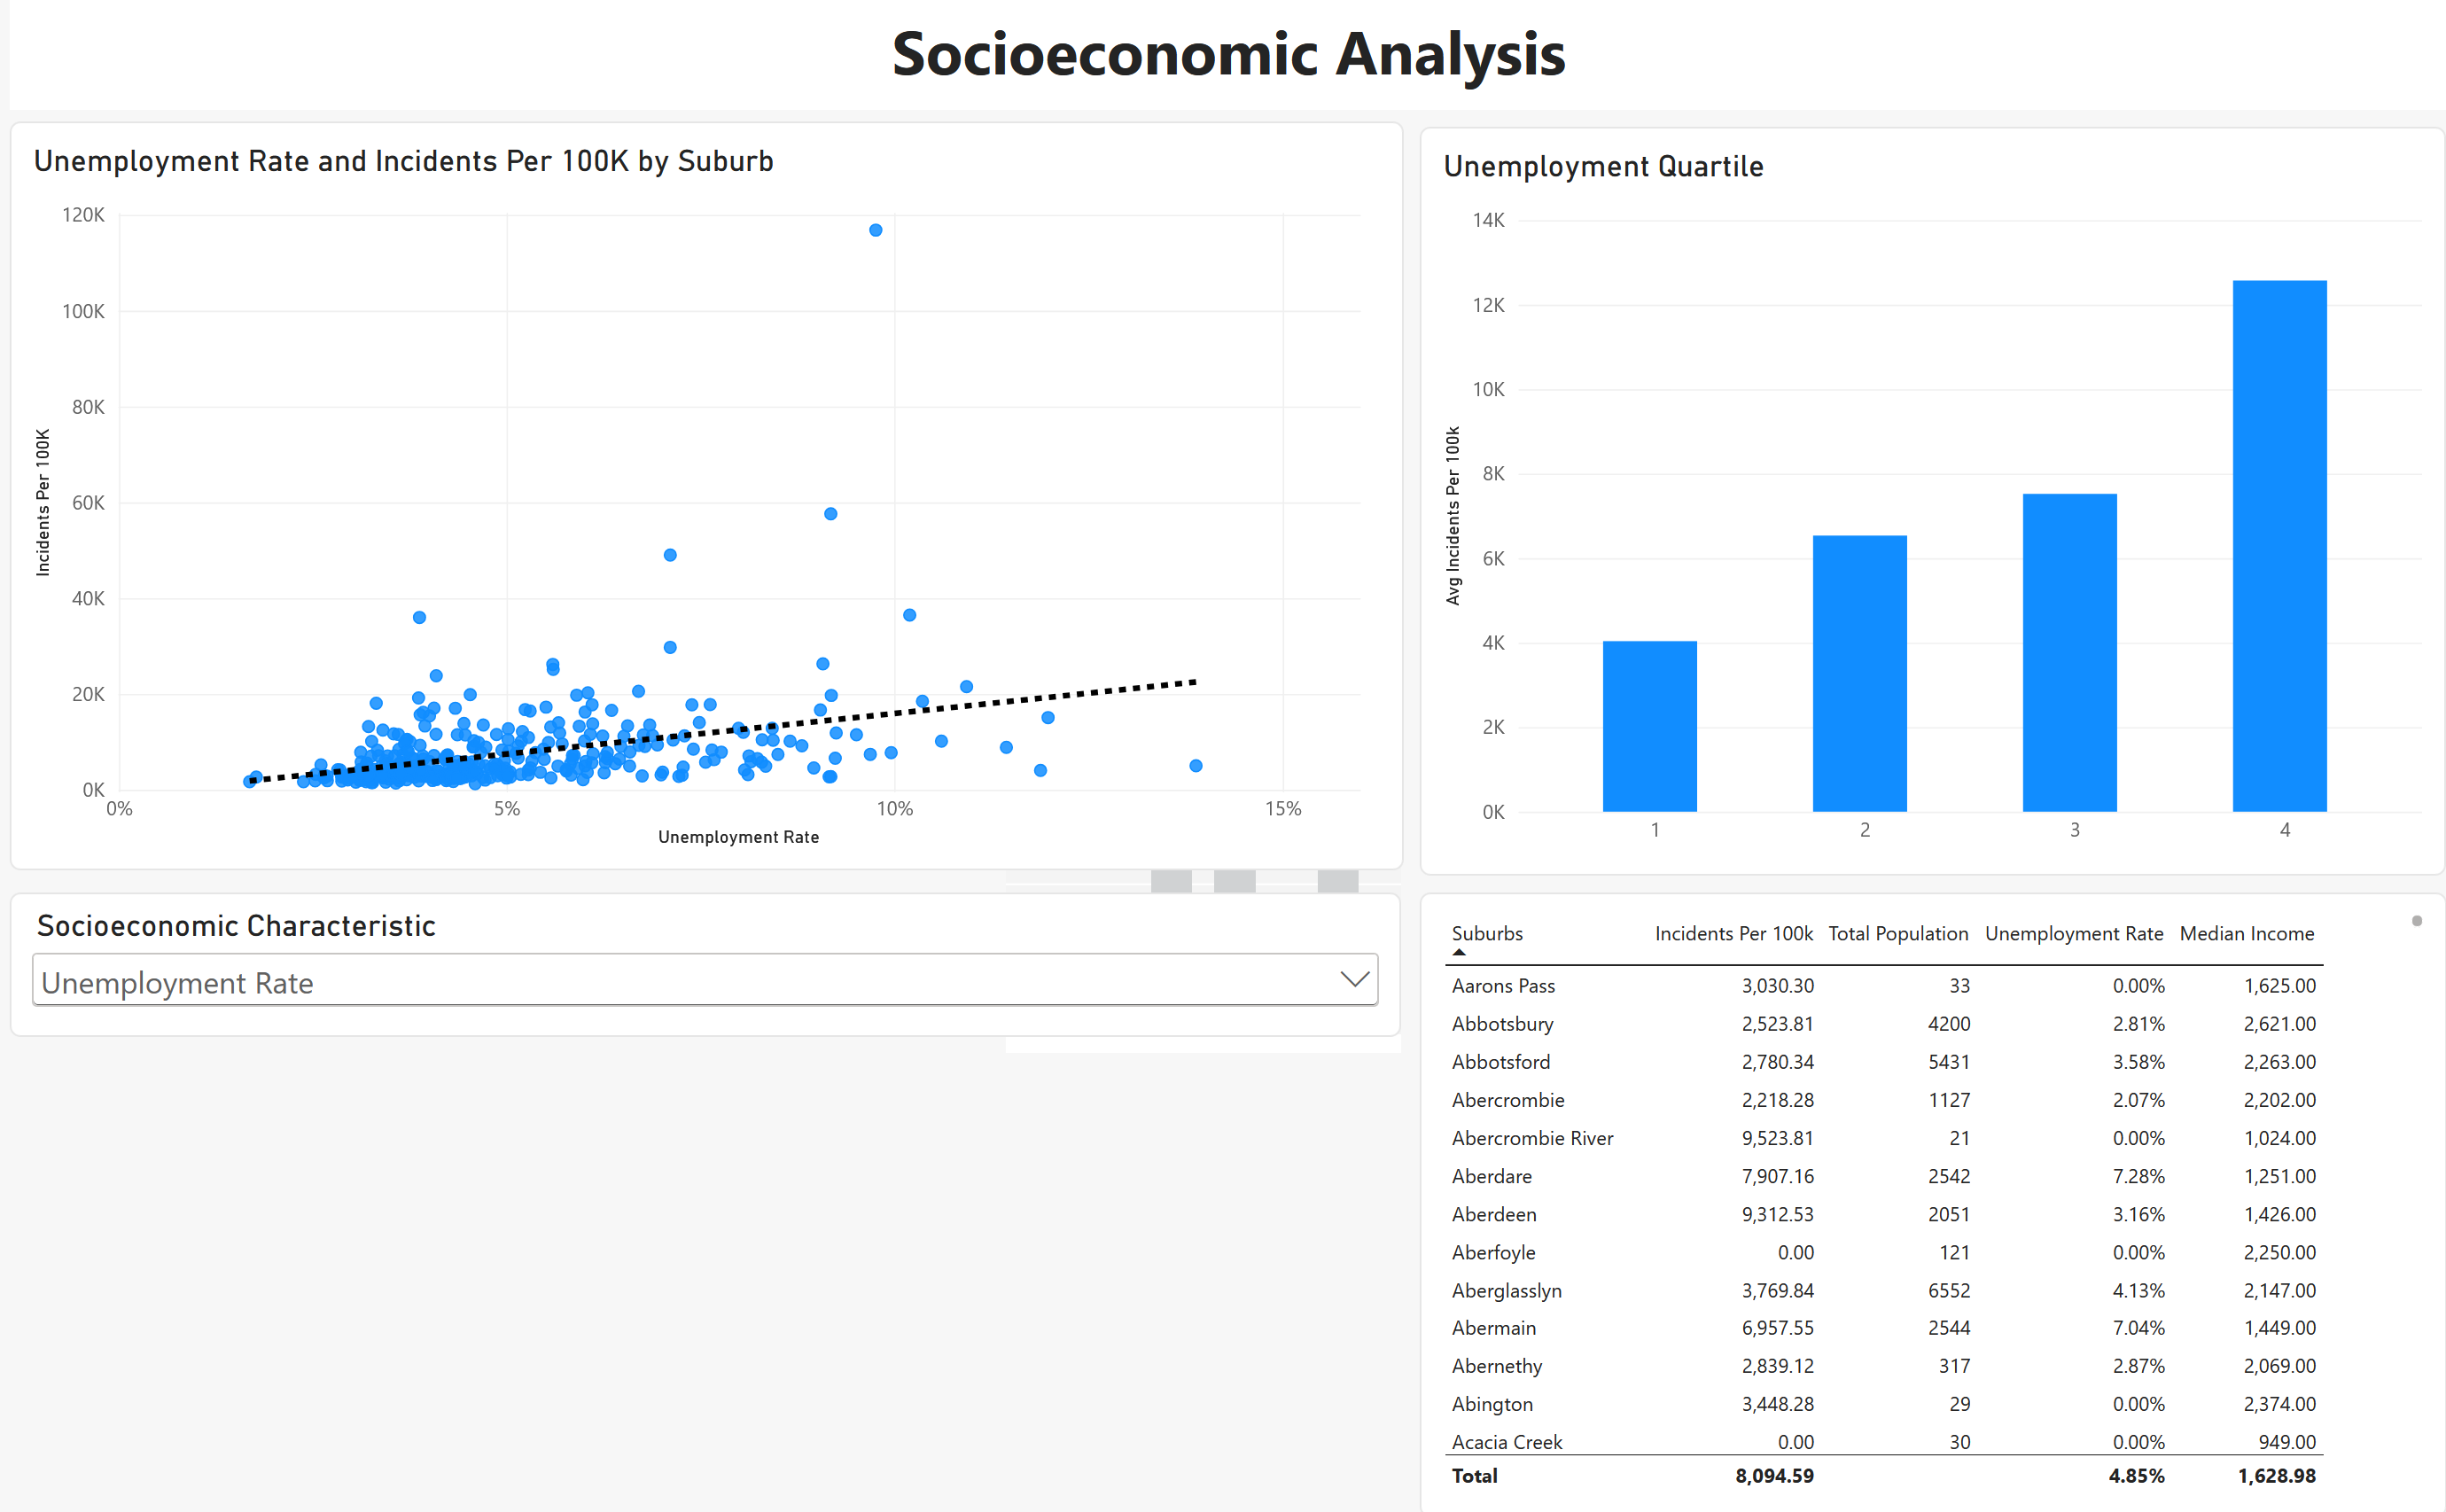

The dashboard page shown, as its layout file describes it:
{"tool":"powerbi","page":{"name":"Socioeconomic Analysis","canvas":[1920,1080],"ordinal":2},"visuals":[{"type":"clusteredColumnChart","box":[784.9,470,280,280],"z":0},{"type":"scatterChart","fields":{"X":["census.Unemployment Rate"],"Category":["census.sal_name"],"Y":["suburb_incidents.Incidents Per 100k 2021"]},"box":[77.4,89.1,988.4,531.1],"z":1000},{"type":"slicer","title":"Socioeconomic","fields":{"Values":["Parameter.Parameter"]},"box":[78.5,635.7,986.4,102.5],"z":2000},{"type":"textbox","box":[77.4,0,1729.2,80.8],"z":3000},{"type":"clusteredColumnChart","title":"Unemployment Quartile","fields":{"Category":["census.Unemployment Quartile"],"Y":["census.Avg Incidents Per 100k (Quartile)"]},"box":[1077.7,92.8,728,531],"z":4000},{"type":"tableEx","fields":{"Values":["census.sal_name","suburb_incidents.Incidents Per 100k 2021","census.total_population","census.Unemployment Rate","census.Median Income"]},"box":[1077.7,636,728.8,443.5],"z":6000}]}

Visuals, with their boxes on the page's 1920x1080 design canvas (x1, y1, x2, y2). These are canvas units, not pixel positions in the 2446x1512 screenshot, which may show the page scaled, cropped or inside an application window:
clusteredColumnChart: 785/470/1065/750
scatterChart - census.Unemployment Rate x census.sal_name: 77/89/1066/620
"Socioeconomic" slicer: 78/636/1065/738
textbox: 77/0/1807/81
"Unemployment Quartile" clusteredColumnChart: 1078/93/1806/624
tableEx - census.sal_name x suburb_incidents.Incidents Per 100k 2021: 1078/636/1806/1080
